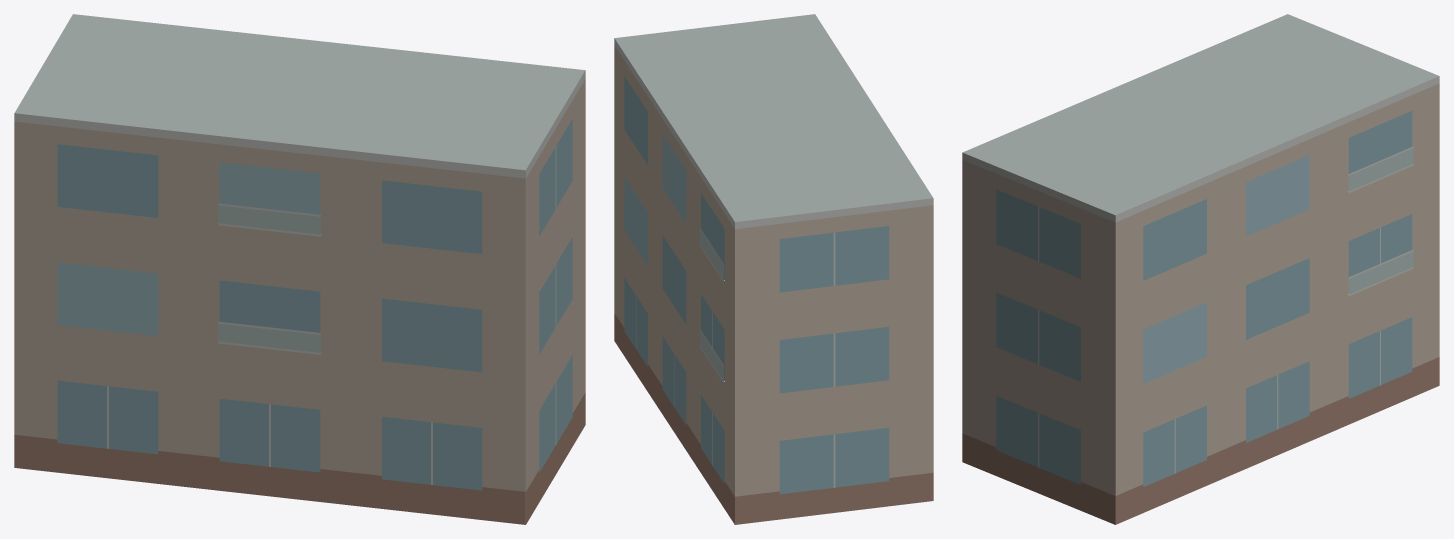
The model's file is survey-upis-32845284.glb.
The picture shows the model from 3 angles, left to right: view 1: azimuth 30°, elevation 25°; view 2: azimuth 150°, elevation 25°; view 3: azimuth 270°, elevation 25°; orthographic projection. The views are drawn at different scales.
Visible parts, largest first — view 1: survey-upis-32845284.tmp; view 2: survey-upis-32845284.tmp; view 3: survey-upis-32845284.tmp.
Part boxes in pixels (<box>): survey-upis-32845284.tmp: <box>14,14,585,524</box>; survey-upis-32845284.tmp: <box>614,14,933,524</box>; survey-upis-32845284.tmp: <box>962,14,1439,524</box>.
Size of the model in its own units: 14.65 by 10.5 by 14.68.
